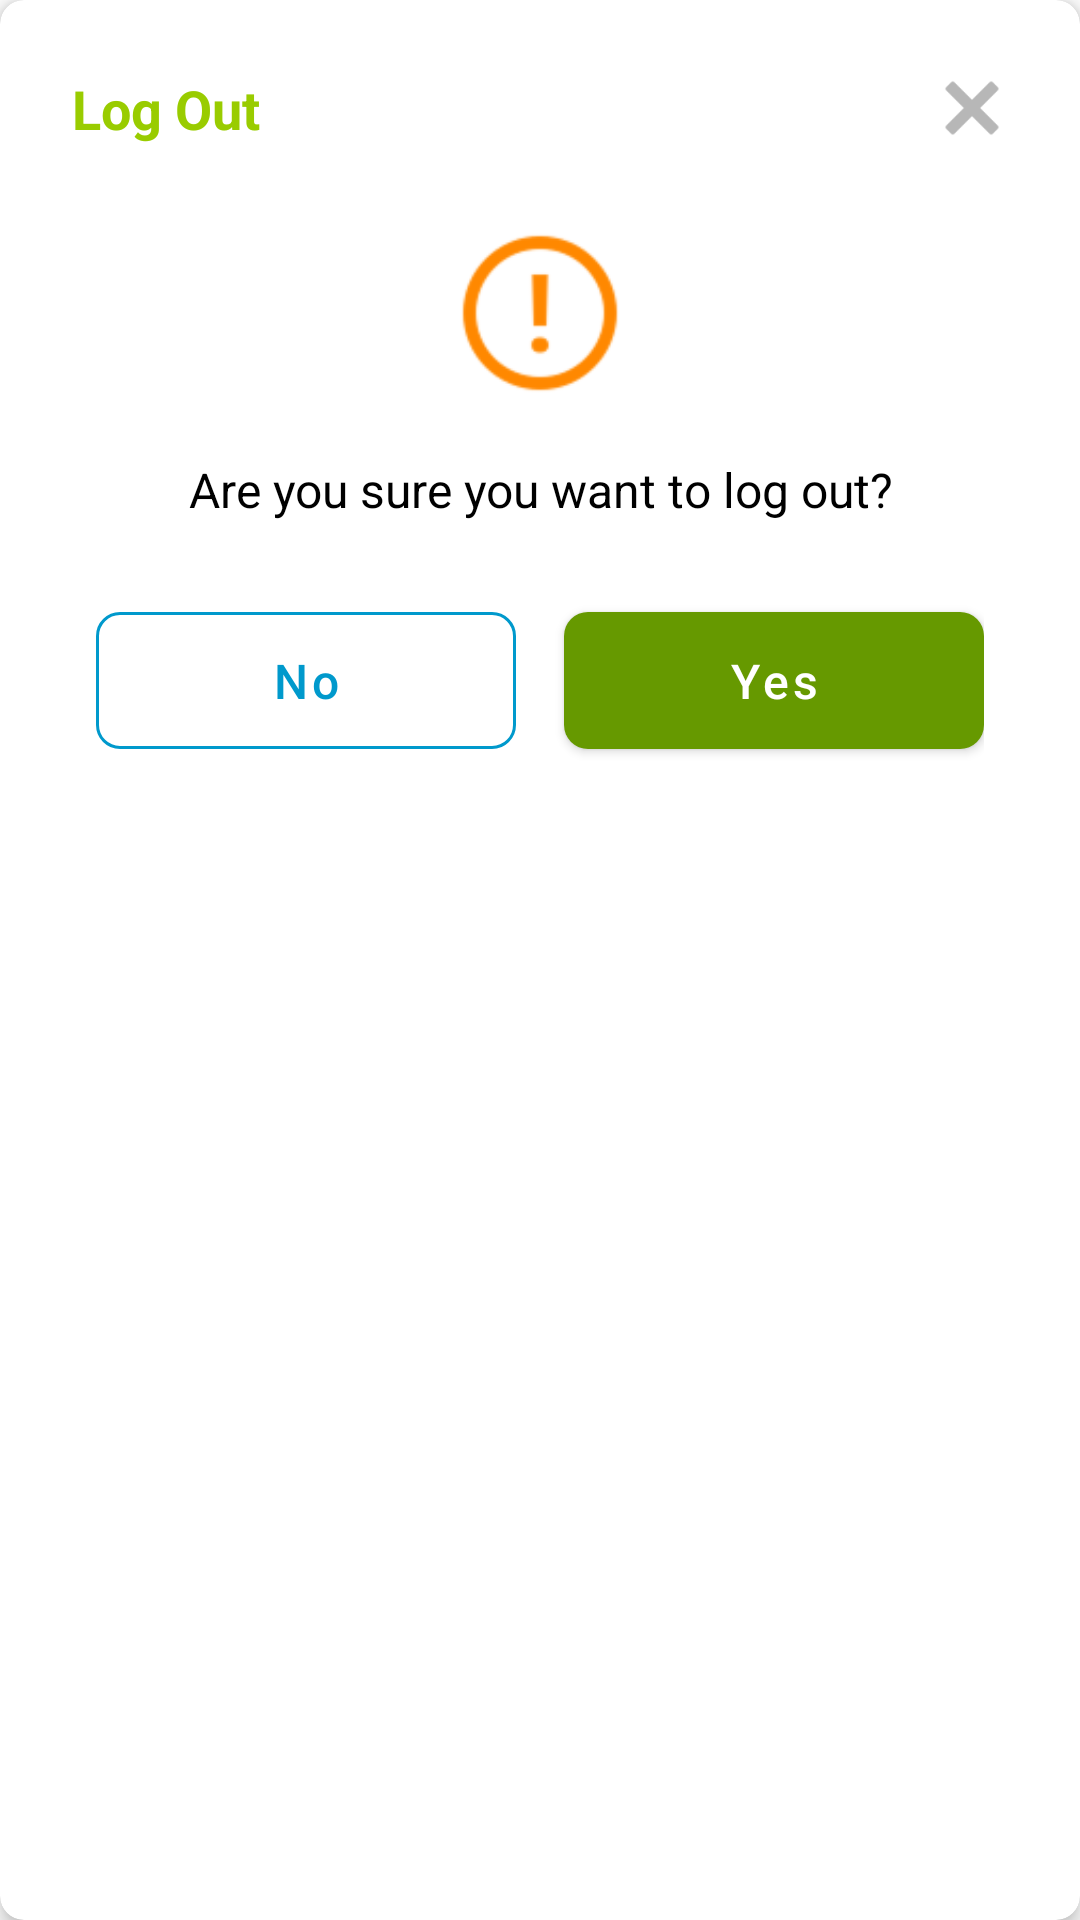

Screen size 1080×1920. Icon name, then its box in pixels as {"x1": x1, "y1": y1, "x2": x2, "y2": y2}:
Close dialog: {"x1": 945, "y1": 81, "x2": 999, "y2": 135}
Warning icon: {"x1": 462, "y1": 235, "x2": 618, "y2": 391}
